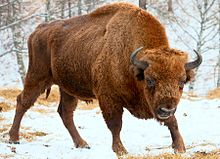zubr: (5, 1, 204, 159)
